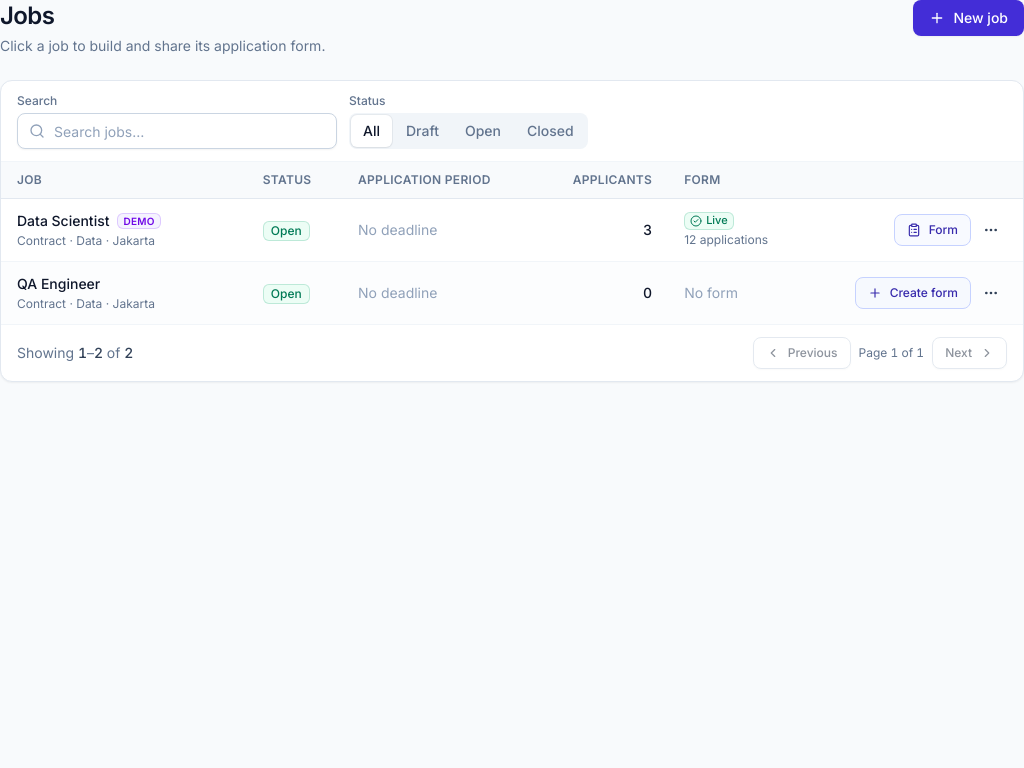
Test: JobListPage › offers every job action in the row menu
Click the button named "More actions for Data Scientist" at (991, 230), box [975,214,1007,246]
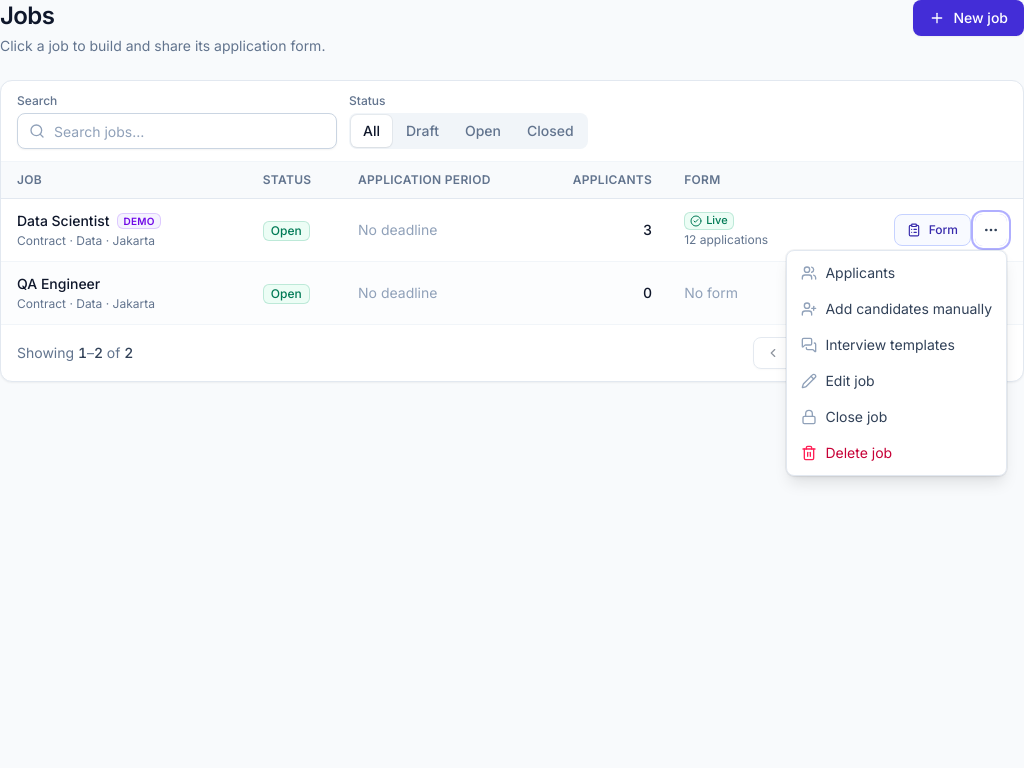
Expected: the menu item "Add candidates manually" is shown, [791,291,1002,327]
Expected: the menu item "Delete job" is shown, [791,435,1002,471]
Click the menu item "Close job" at (897, 417), box [791,399,1002,435]
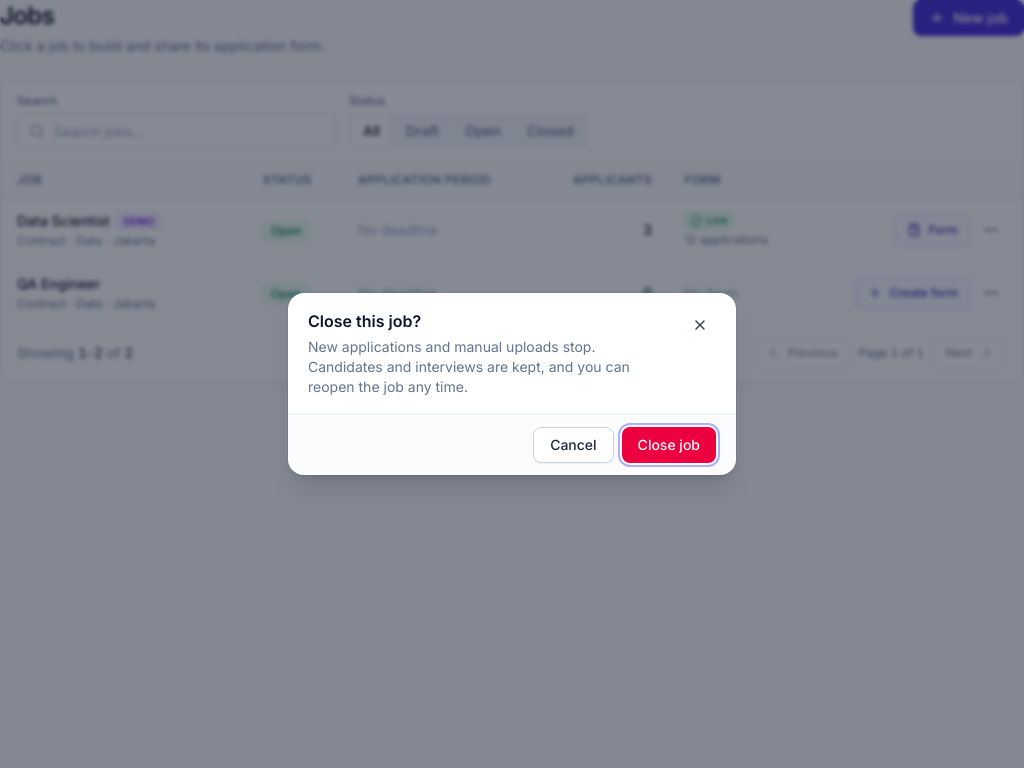
Expected: the dialog "Close this job?" is shown, [288,293,736,475]
